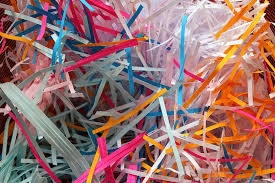paper: (2, 1, 142, 87), (191, 52, 275, 183), (176, 2, 274, 114), (71, 131, 163, 183), (91, 87, 176, 143), (156, 97, 186, 178)
